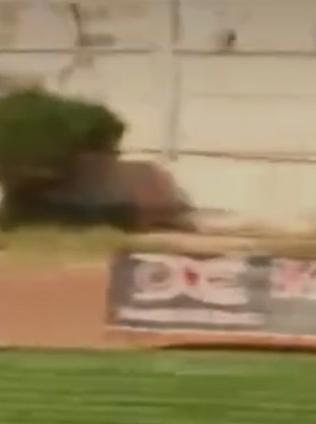ball: (204, 21, 241, 54)
